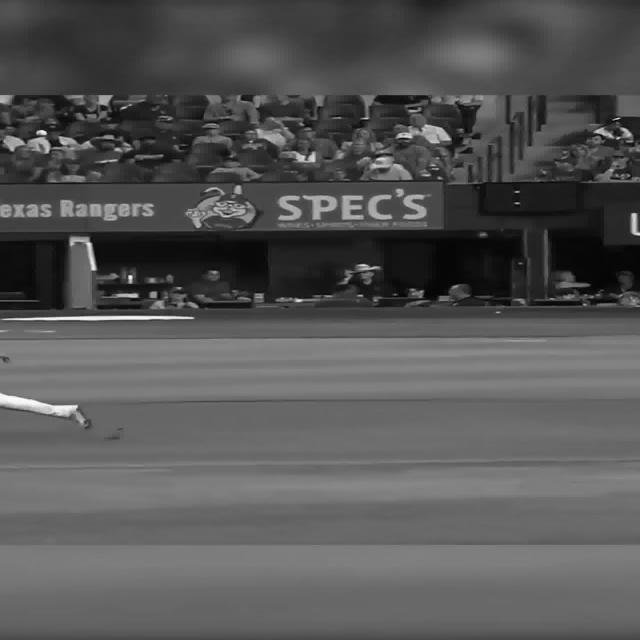shoe: (50, 404, 91, 428), (70, 405, 91, 429)
